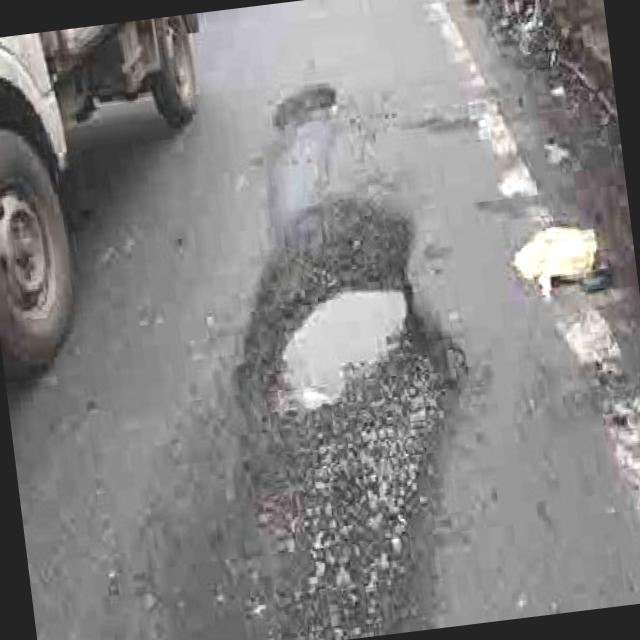Lubang: (235, 186, 447, 640), (273, 82, 336, 128)
